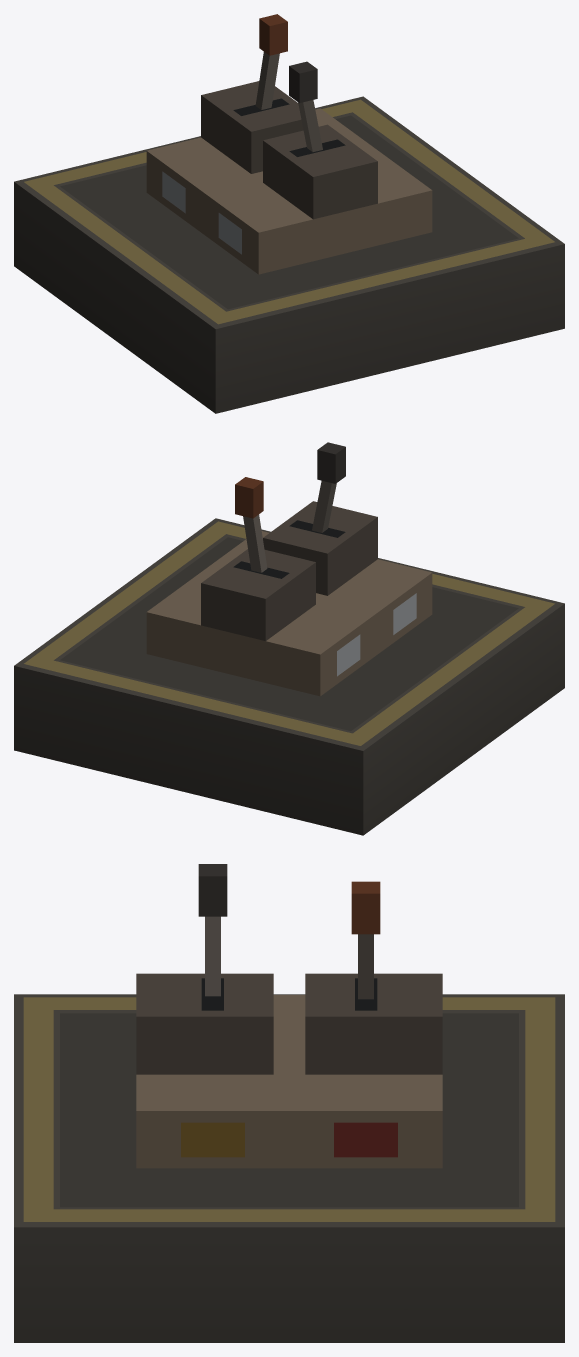
The model's file is machine.lever.worn.glb.
3 renders of one model, top to bottom at view 1: azimuth 30°, elevation 25°; view 2: azimuth 150°, elevation 25°; view 3: azimuth 270°, elevation 25°, orthographic. The views are drawn at different scales.
Parts seen in each view (by area): view 1: machine_lever_worn; view 2: machine_lever_worn; view 3: machine_lever_worn.
Part boxes in pixels (bbox=[...]): machine_lever_worn: bbox=[14, 14, 564, 413]; machine_lever_worn: bbox=[14, 442, 564, 835]; machine_lever_worn: bbox=[14, 864, 564, 1342].
Size of what is drawn, in the model's own units: 1.73 by 1.2 by 1.73.
